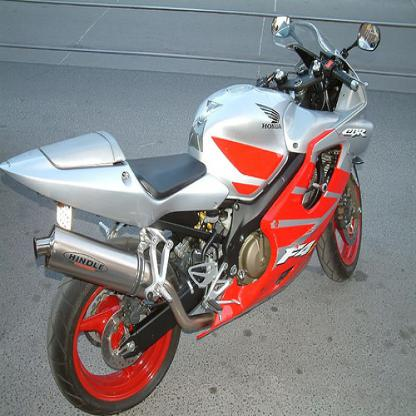motorbike: (0, 13, 381, 415)
